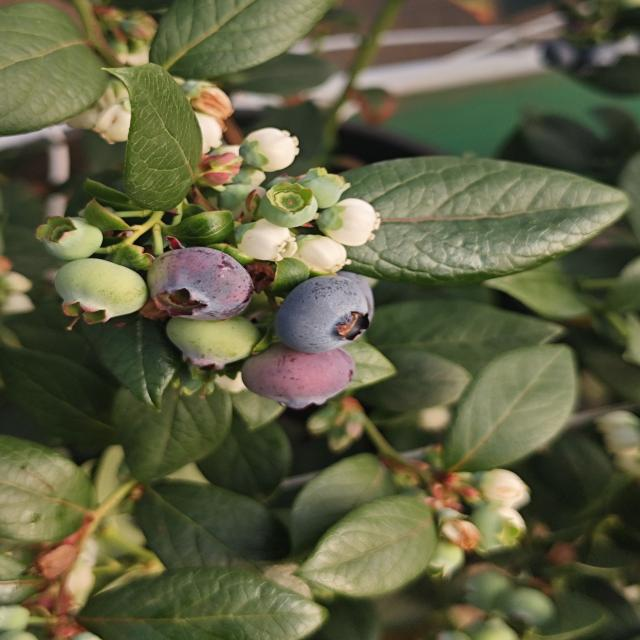ripe: (136, 238, 254, 320), (271, 271, 371, 354)
